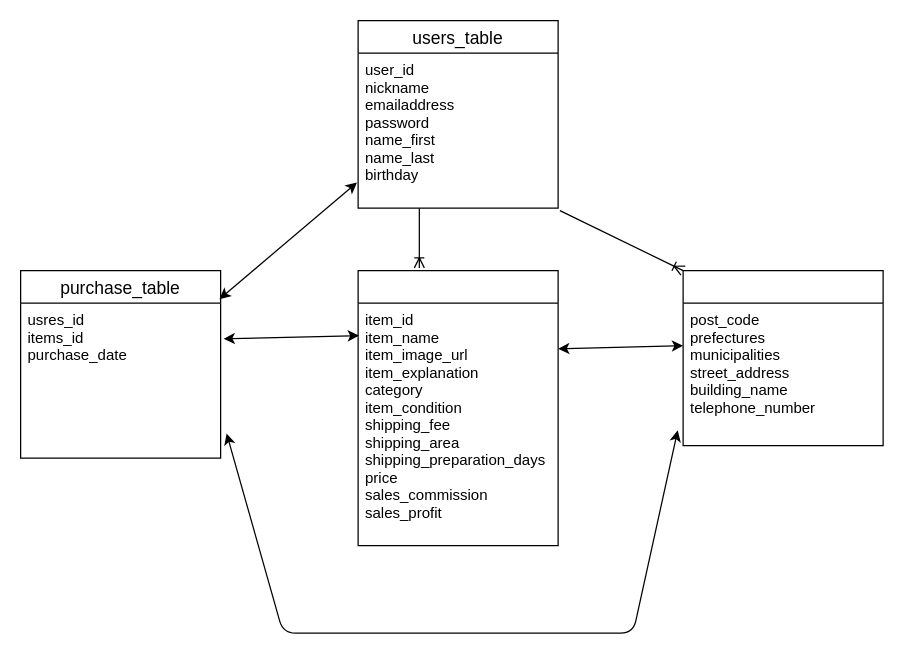
Some shapes in this 904 by 654 pixel diagram are drawn without their labels. Each missing label, with the box of its shape:
items_table: (357, 269, 558, 546)
shipping_table: (682, 269, 883, 446)
